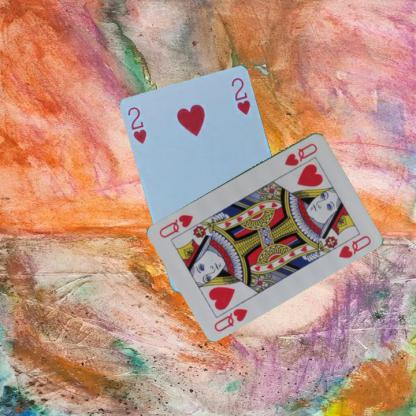2h: (126, 104, 148, 146)
Qh: (211, 305, 249, 333), (281, 140, 319, 167)
